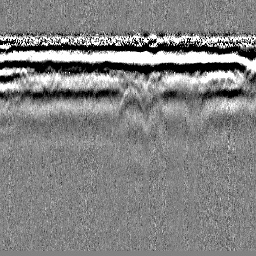cavity: (118, 85, 145, 115)
